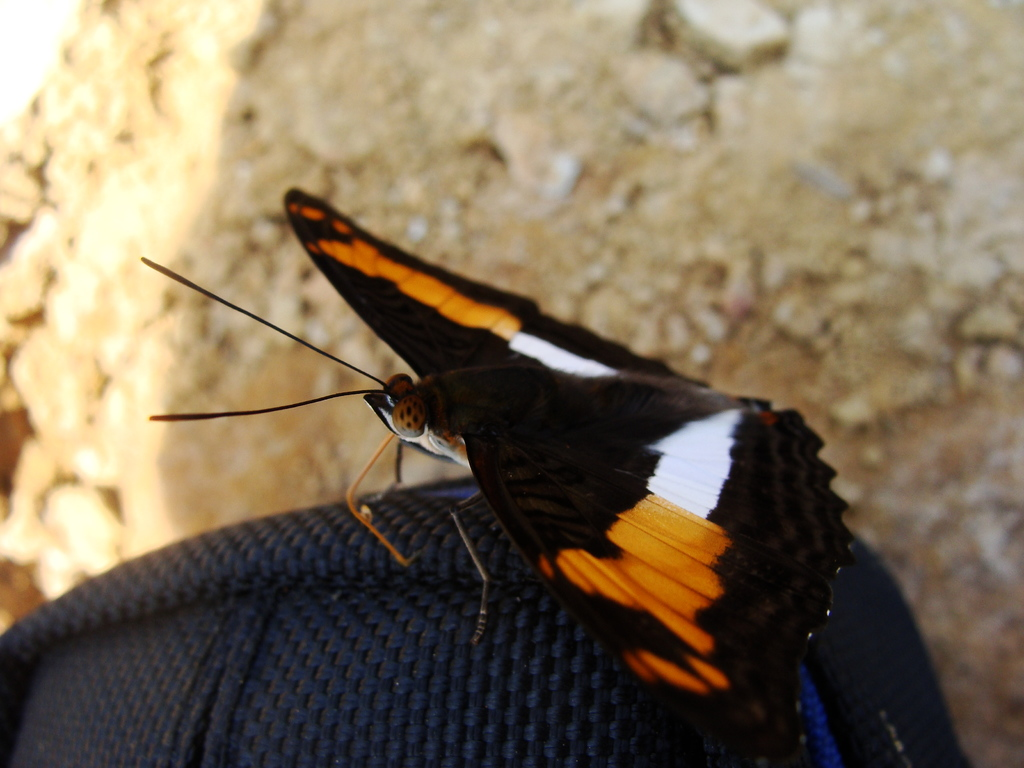Butterfly: (195, 193, 829, 711)
